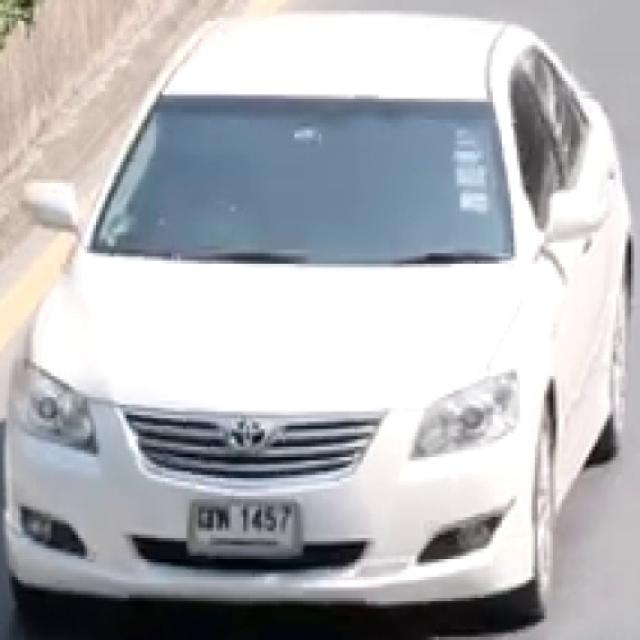plate: (189, 498, 299, 553)
